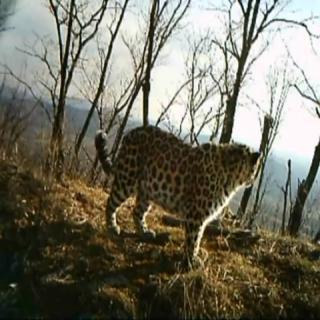Leopard: (85, 116, 252, 290)
